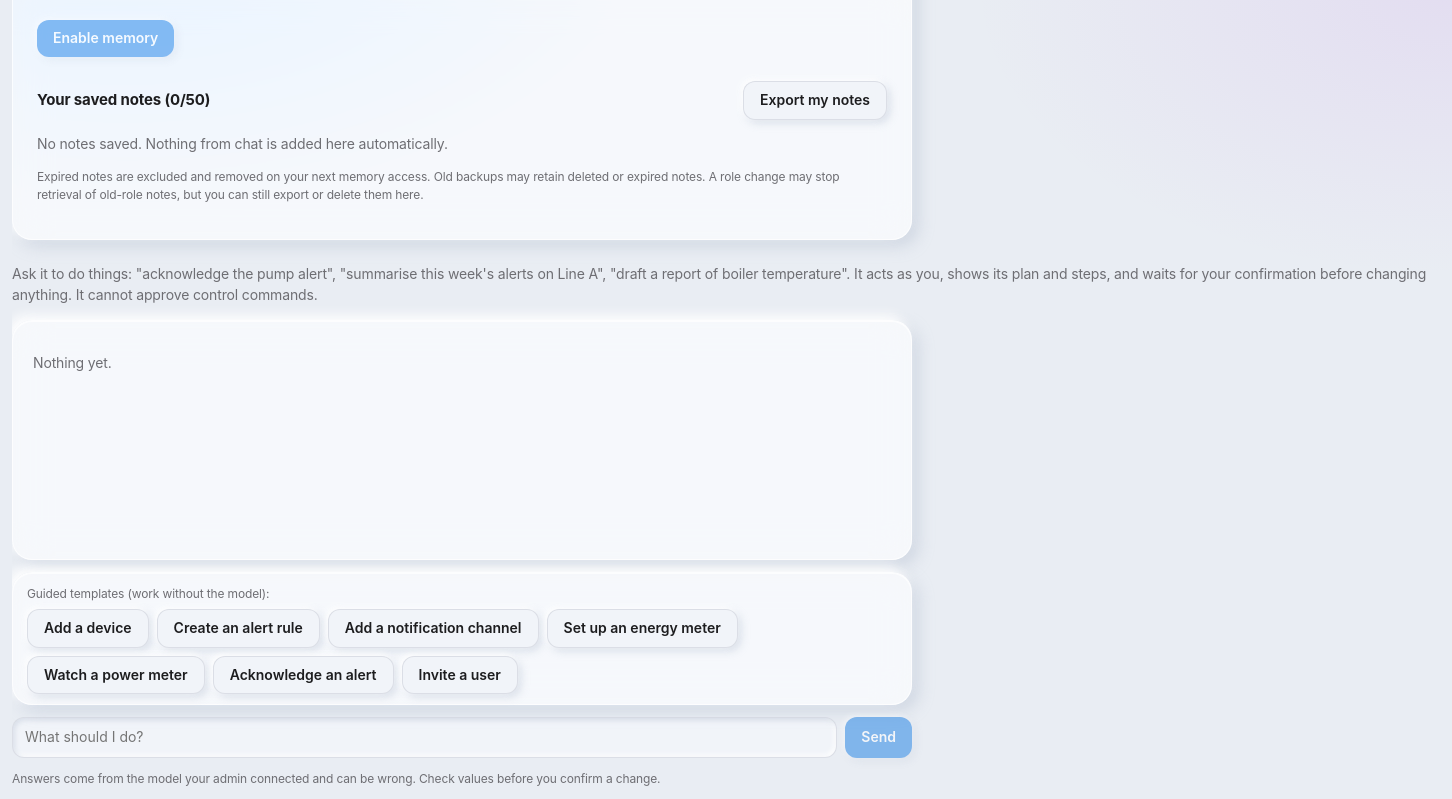
Test: add-channel wizard offers Slack channels as chips and still accepts typing
The image size is (1452, 799).
(page scrolled)
Click the button "Add a notification channel": (433, 628) x1=328 y1=609 x2=538 y2=648
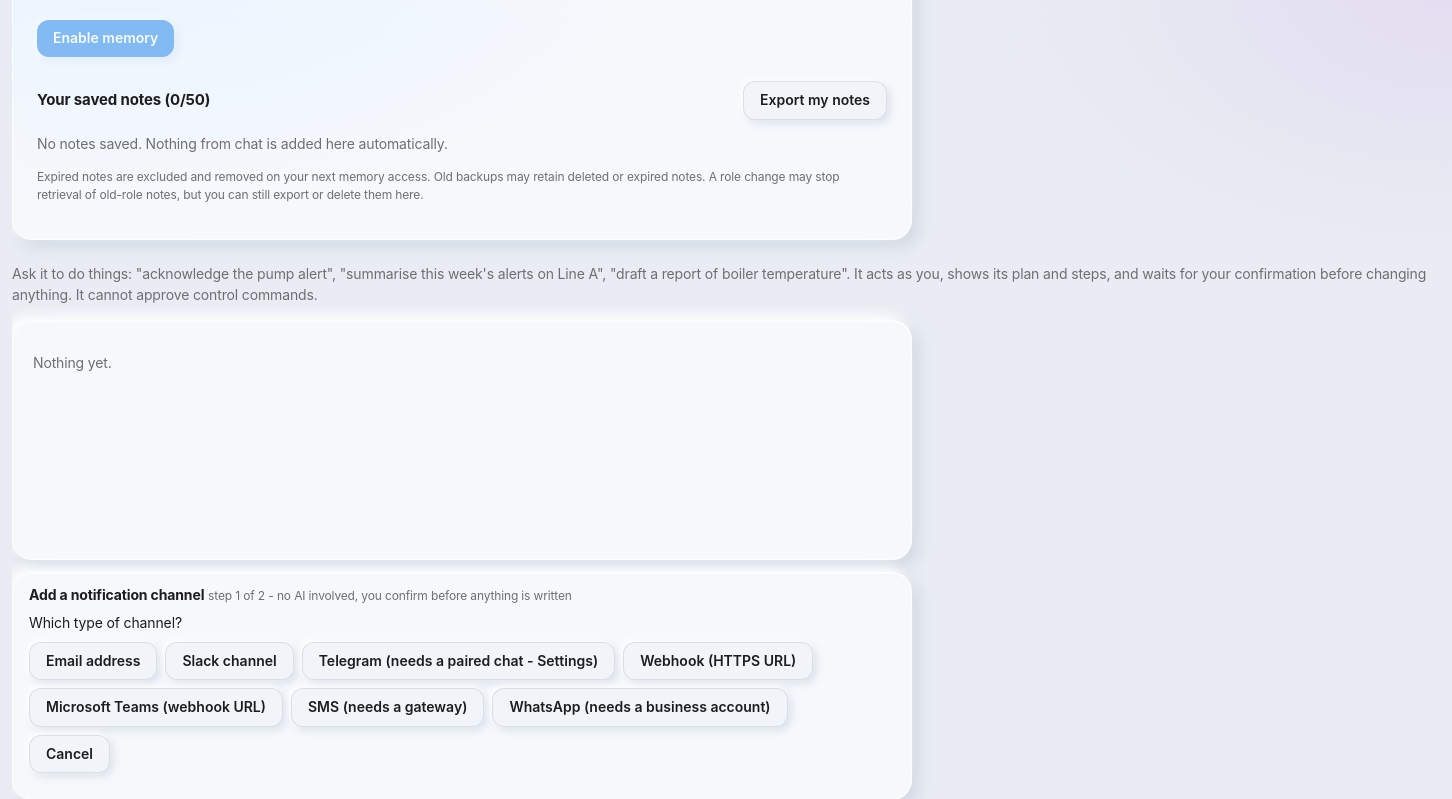
Click the button "Slack channel": (230, 661) x1=165 y1=642 x2=294 y2=680
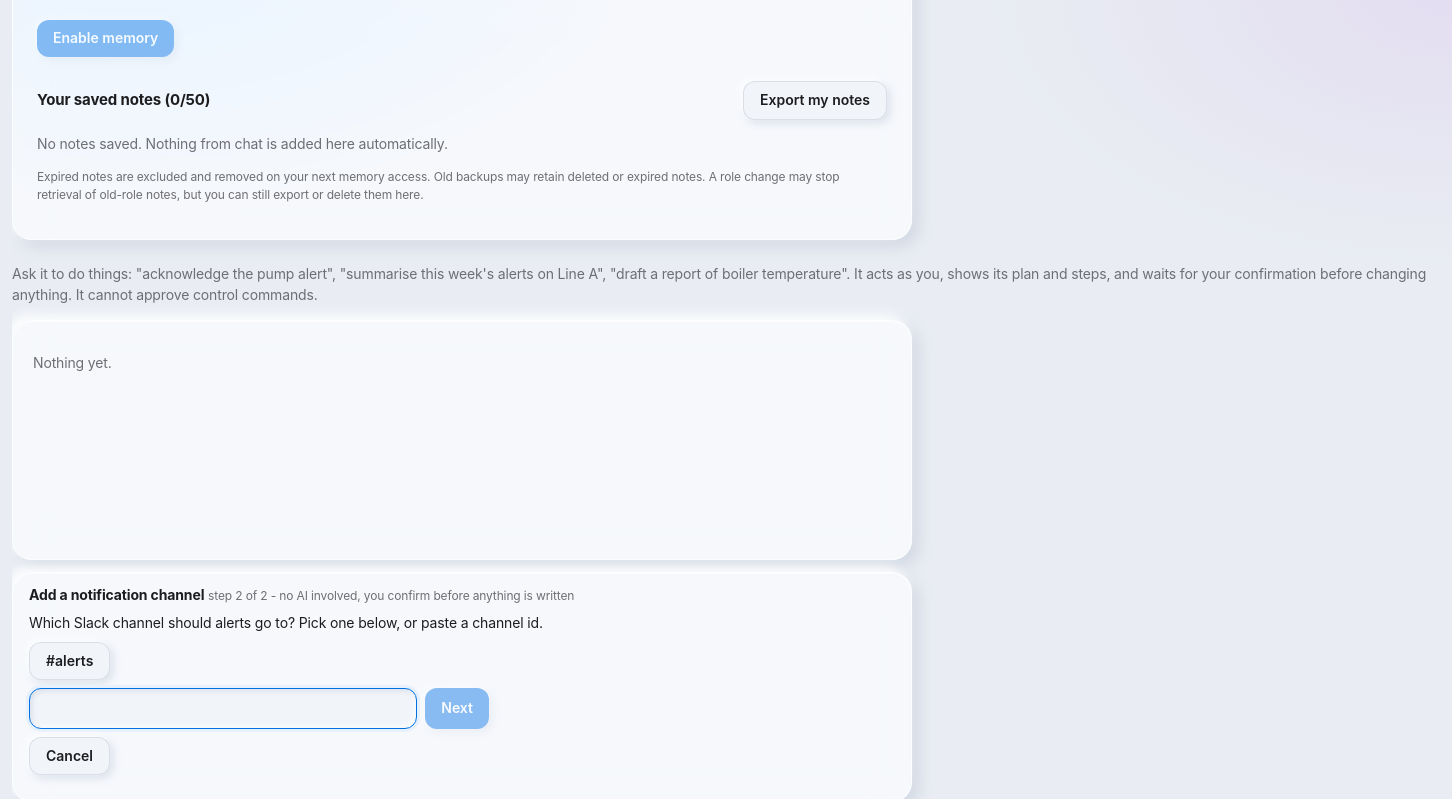
Expected: the button "#alerts" is shown
Expected: the field named "Your answer" is shown, x1=29 y1=688 x2=417 y2=729
Click the button "#alerts": (70, 661) x1=29 y1=642 x2=110 y2=680
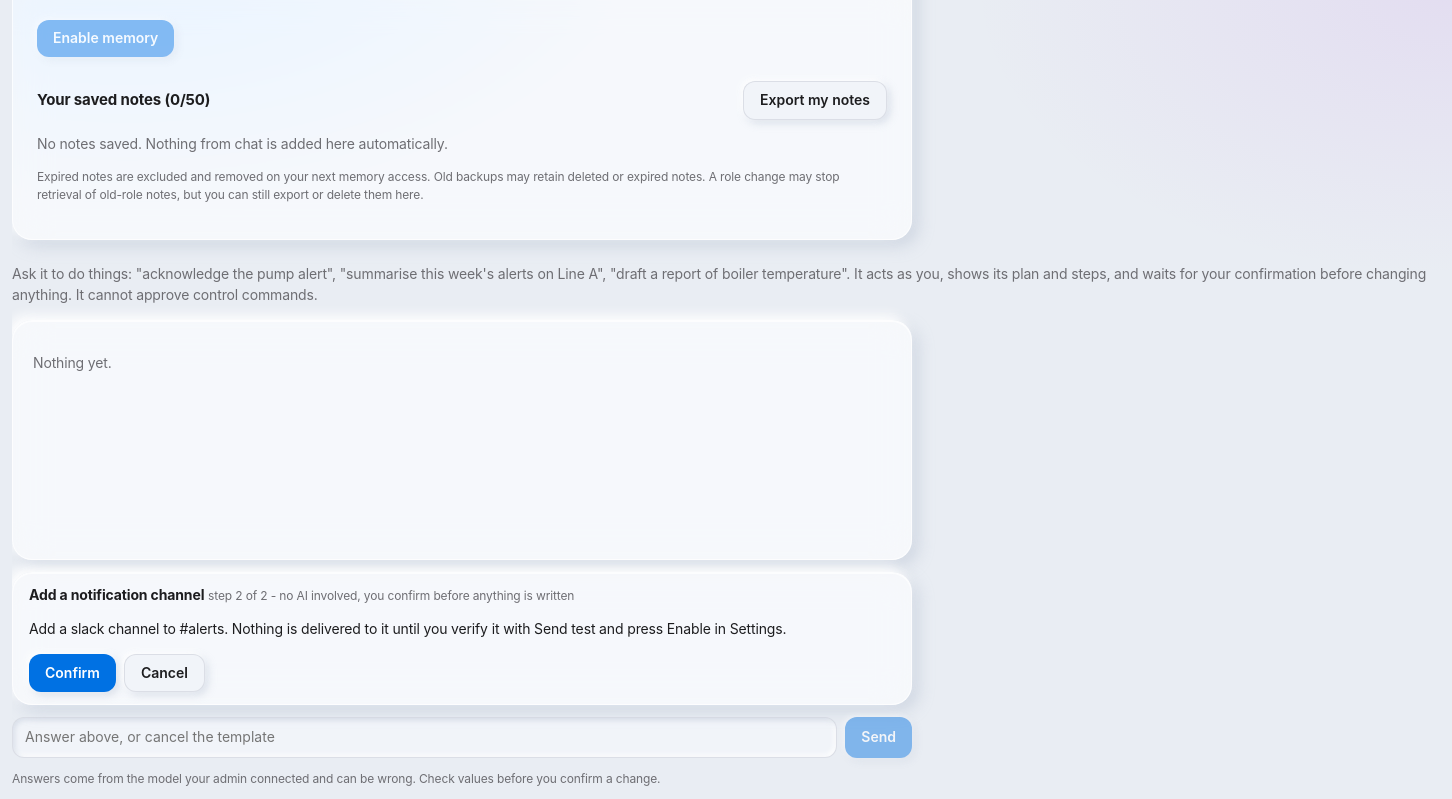
Expected: the text "#alerts" is shown, x1=29 y1=620 x2=786 y2=637
Expected: the text "Nothing is delivered" is shown, x1=29 y1=620 x2=786 y2=637
Click the button "Confirm": (72, 673) x1=29 y1=654 x2=116 y2=692
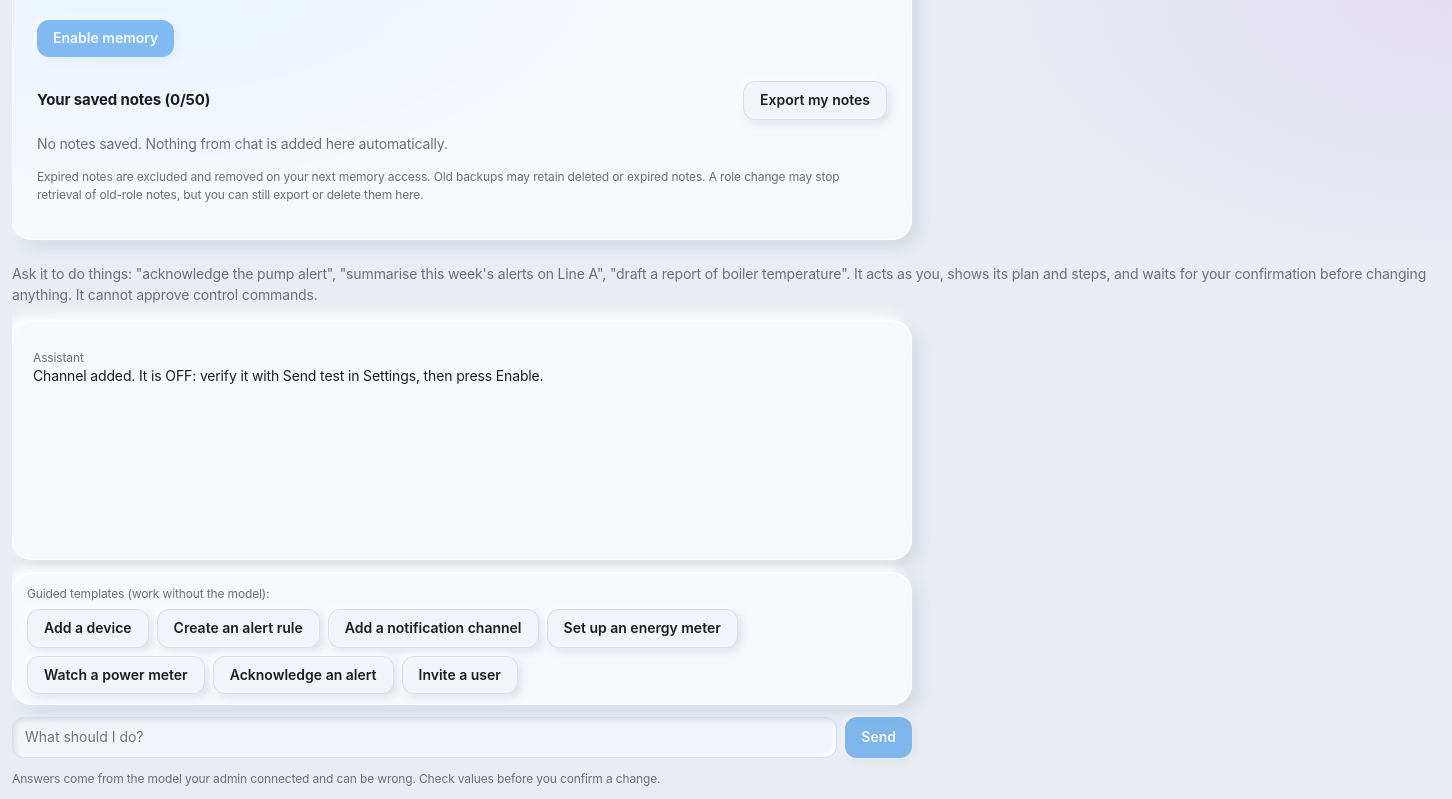
Expected: the text "Channel added" is shown, x1=33 y1=367 x2=544 y2=384
